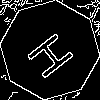H: (25, 25, 83, 82)
